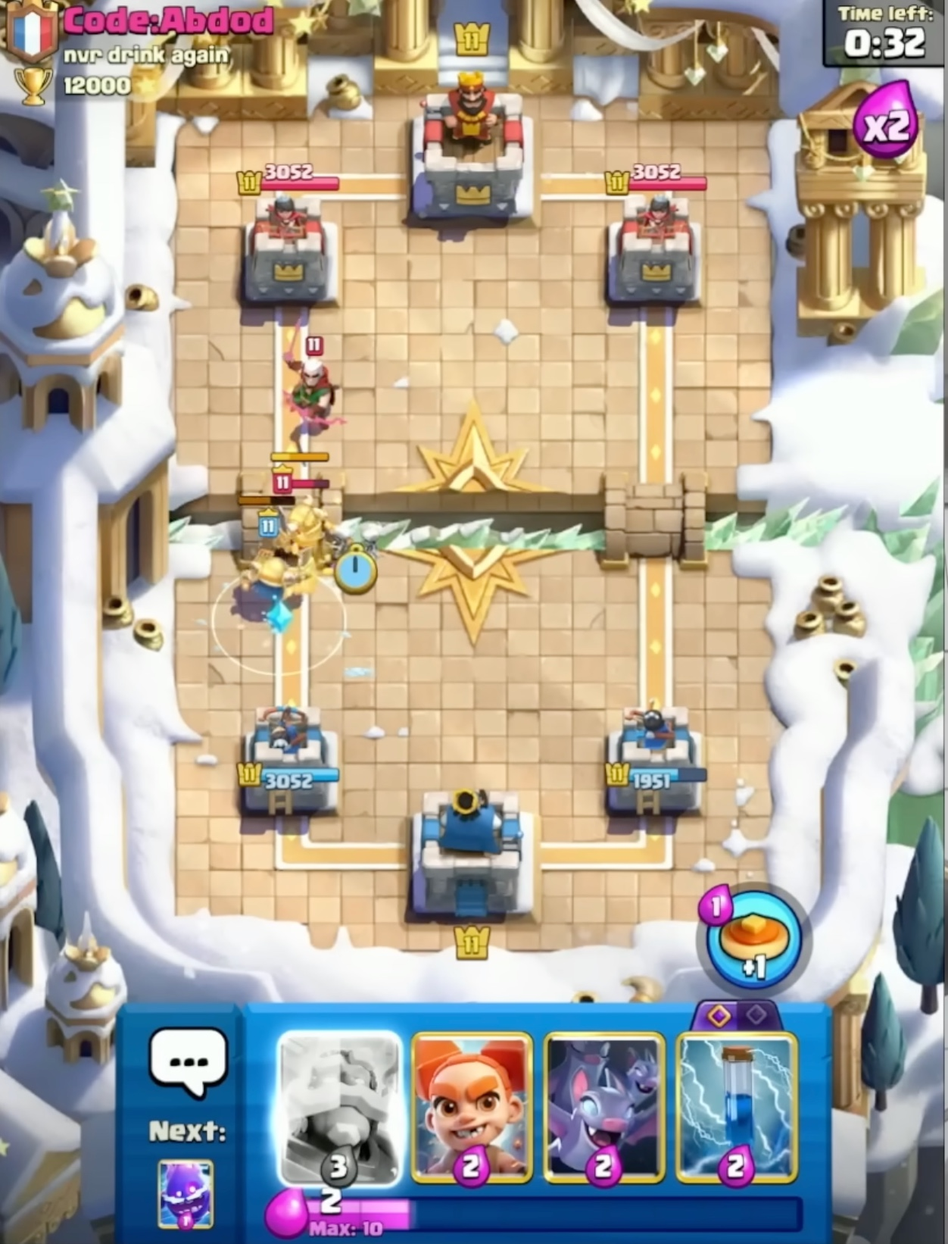hero-mini-pekka: (263, 444, 348, 565)
magic-archer: (277, 322, 352, 438)
